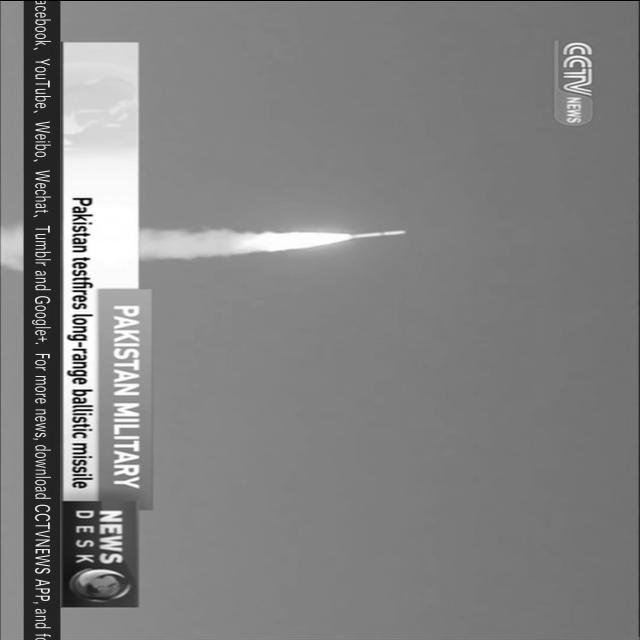missile: (340, 222, 420, 240)
